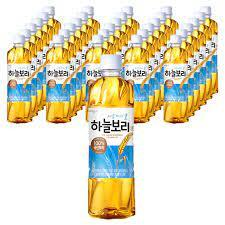haneulbori: (86, 55, 137, 220), (6, 35, 33, 125), (46, 36, 72, 124), (164, 35, 188, 124)
